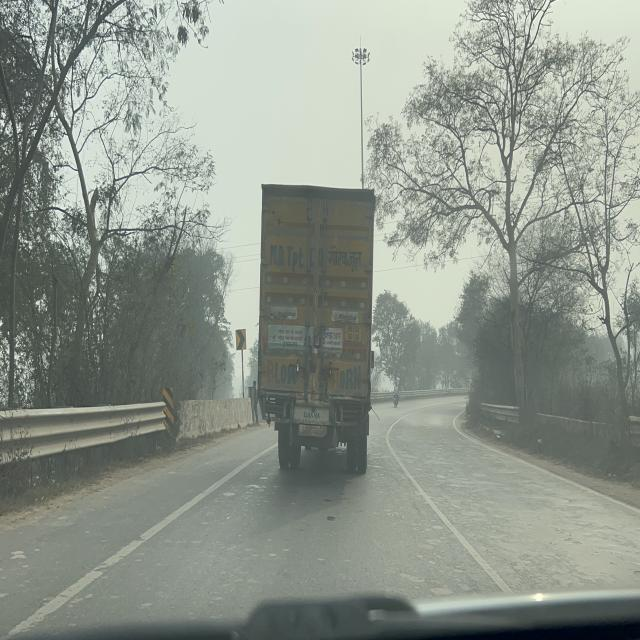TURN_RIGHT: (235, 328, 247, 351)
